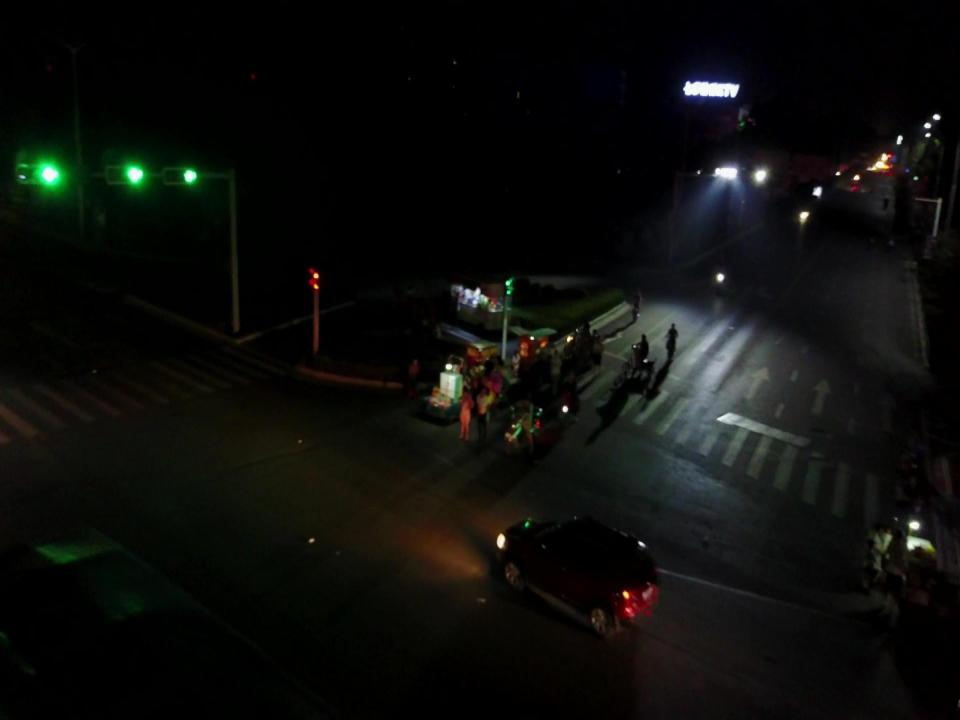car: (489, 508, 662, 639)
